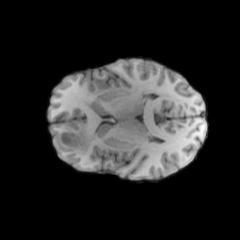glioma: (59, 126, 88, 152)
